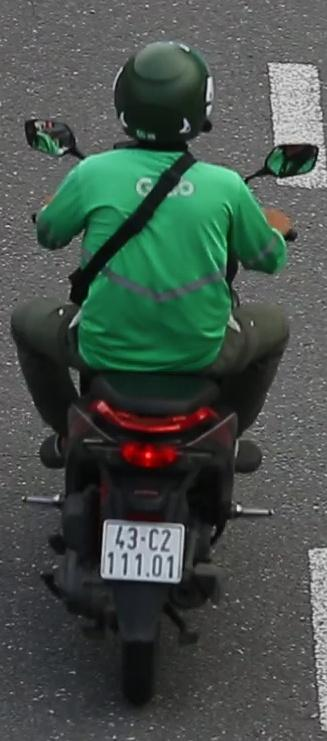LP: (97, 513, 189, 587)
helmet: (109, 33, 222, 168)
